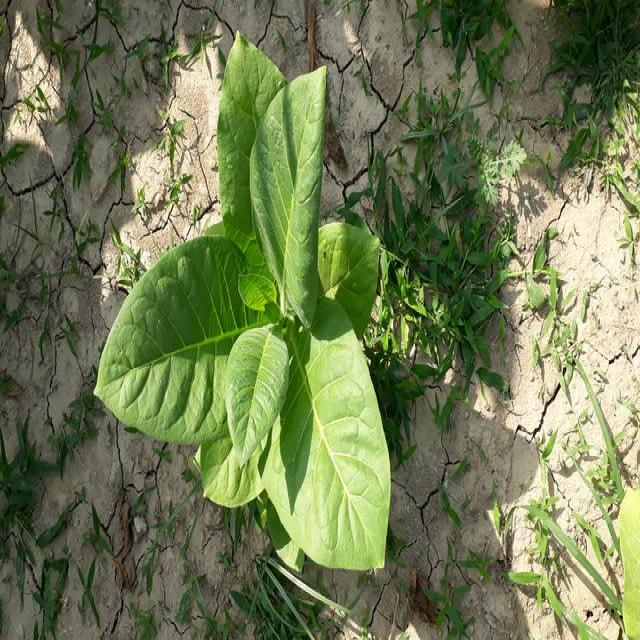crop: (106, 43, 399, 572)
